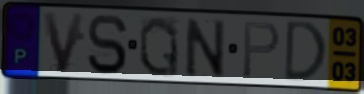D: (282, 19, 329, 84)
N: (184, 16, 227, 79)
P: (240, 20, 282, 81)
Q: (137, 14, 181, 79)
S: (85, 12, 130, 76)
V: (40, 11, 87, 76)
